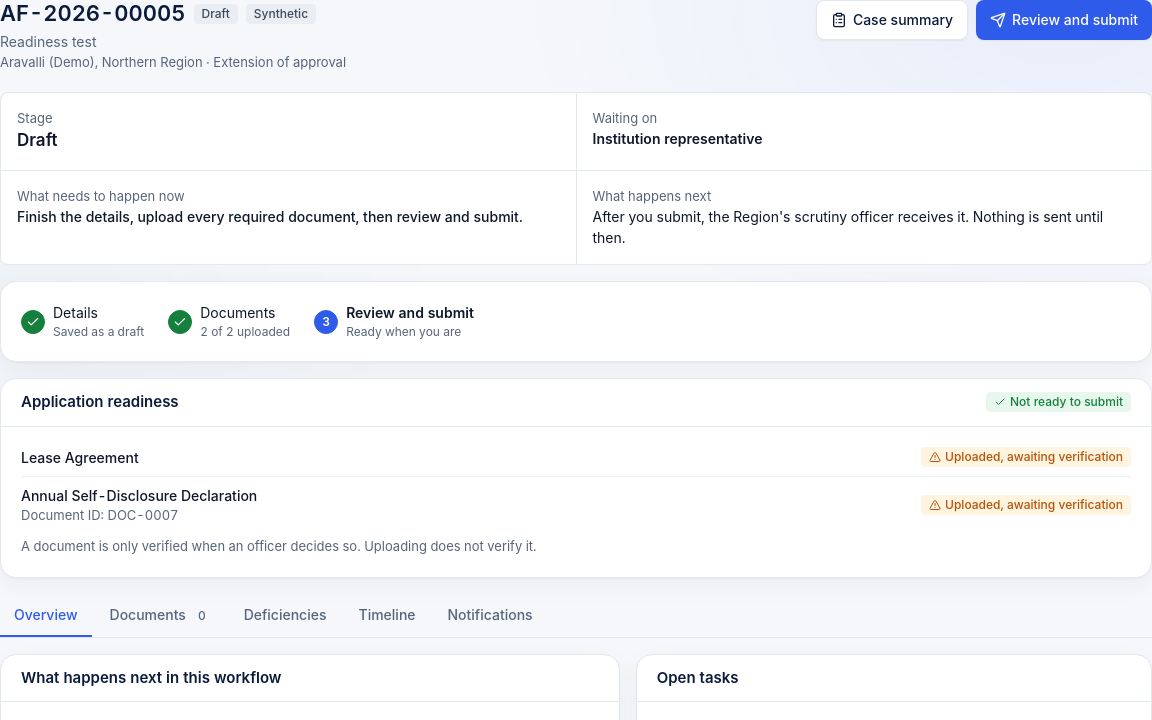
case page › does not announce success when the server refuses the submission
The width and height of the screenshot is (1152, 720).
Click the button "Review and submit". click: [1064, 20]
box: [976,0,1151,40]
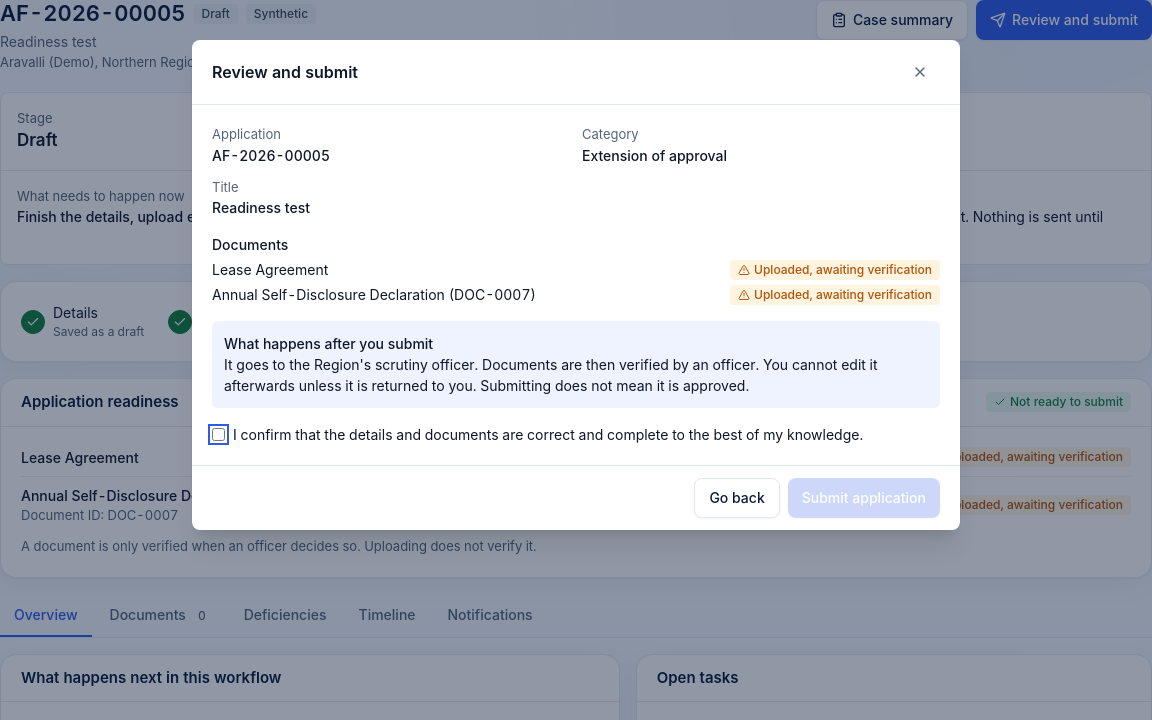
Click the checkbox. click: [218, 434]
box: [212,428,225,441]
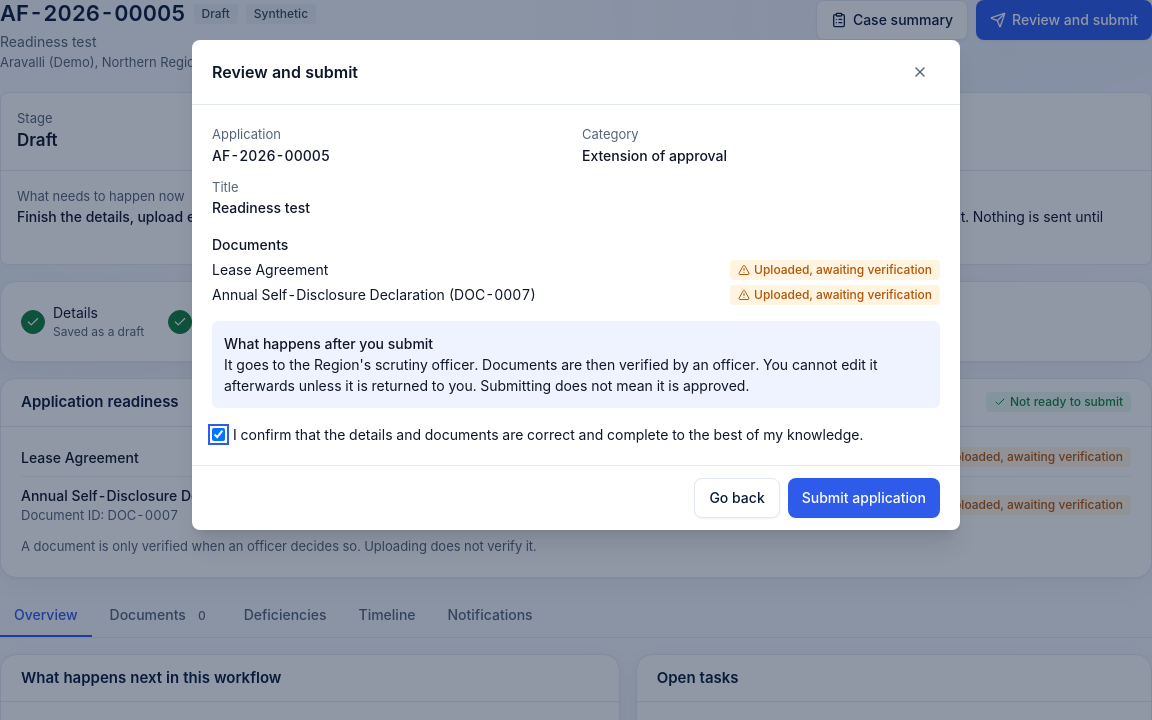
Click the button "Submit application". click: [864, 498]
box: [788,478,940,518]
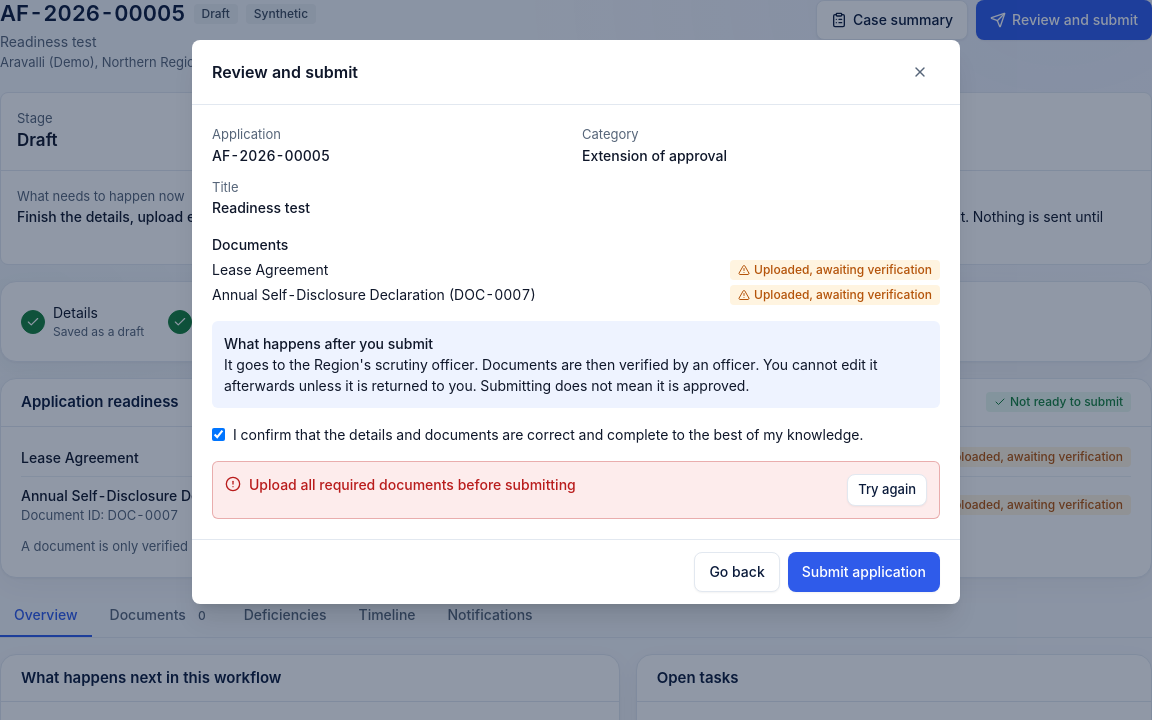
Check: the text "Upload all required documents before submitting" is shown, box [249,476,576,493]
